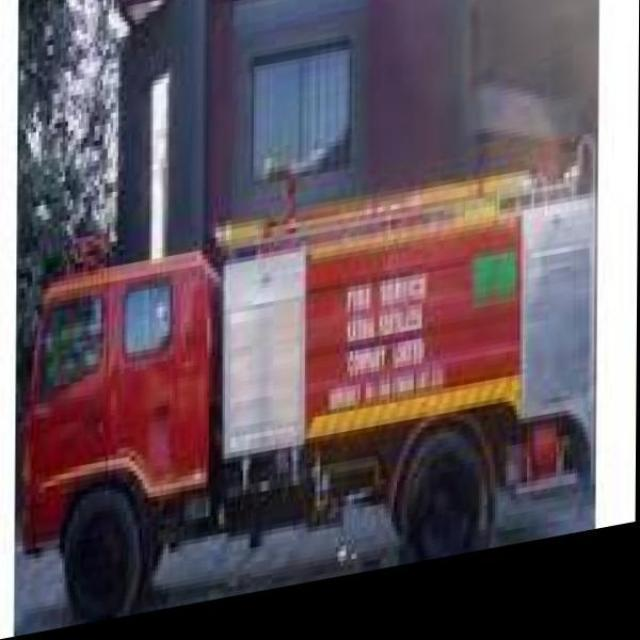emergency: (17, 160, 597, 622)
